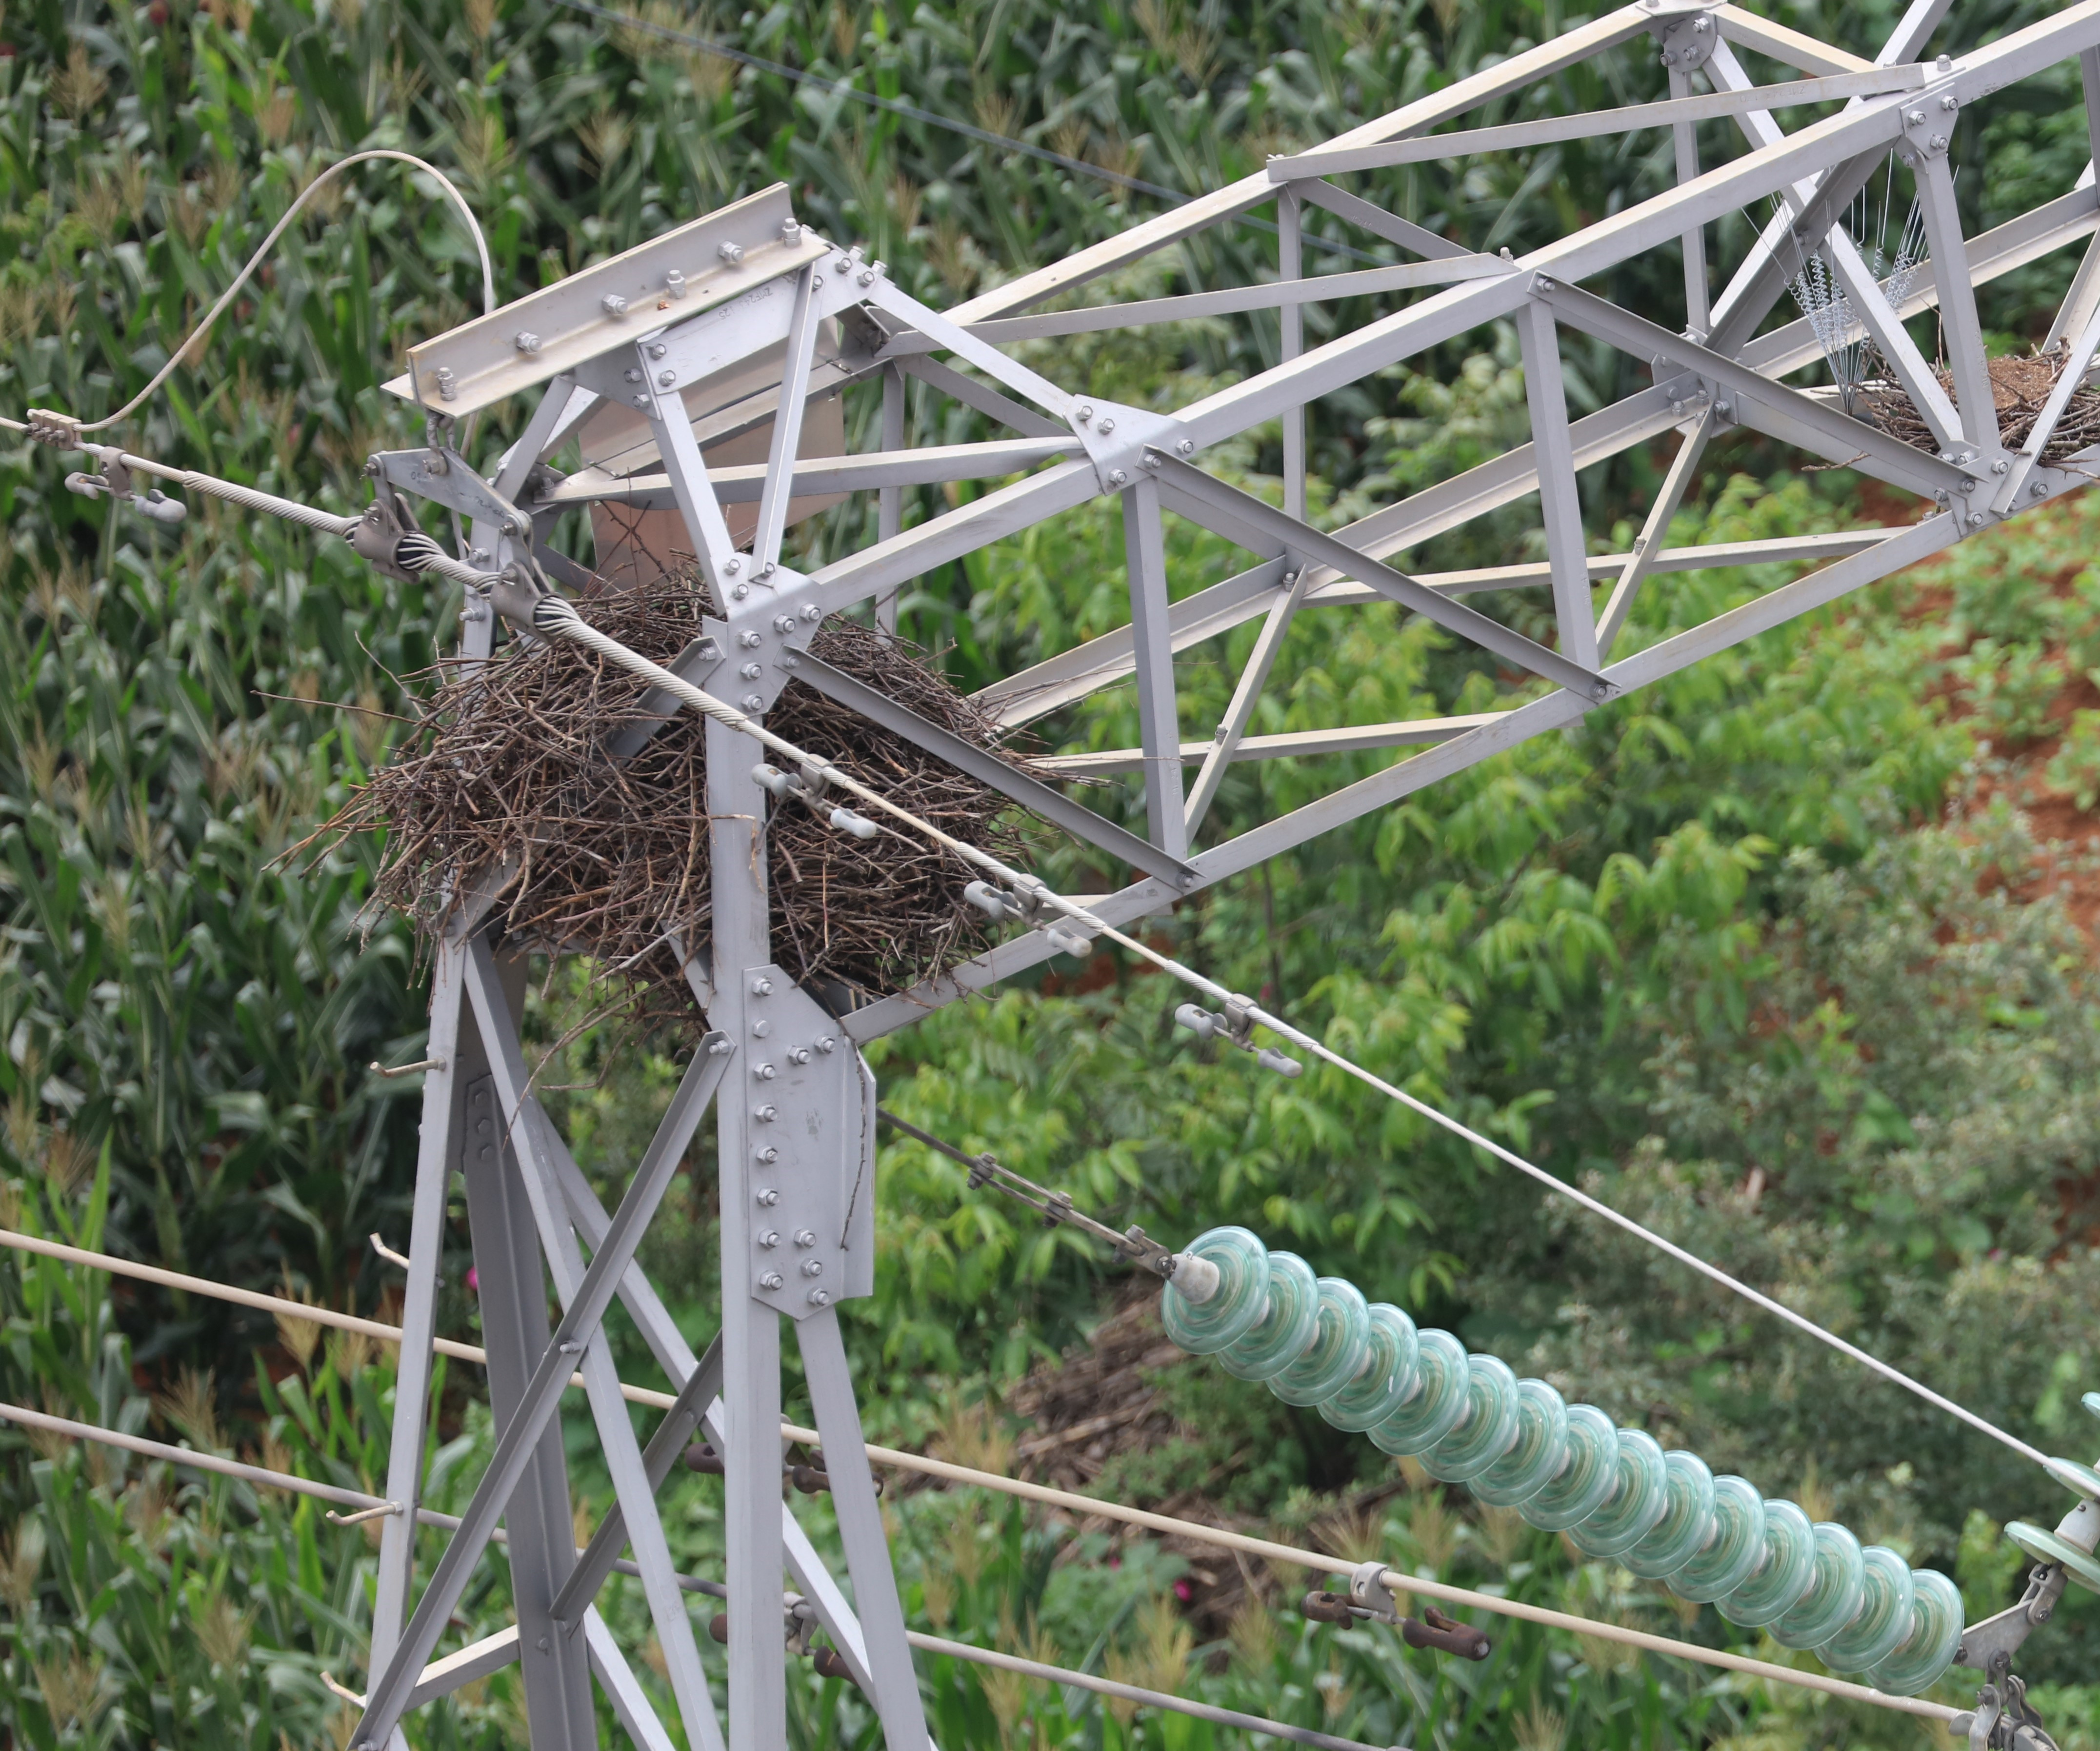niaowo: (356, 560, 1076, 1027)
